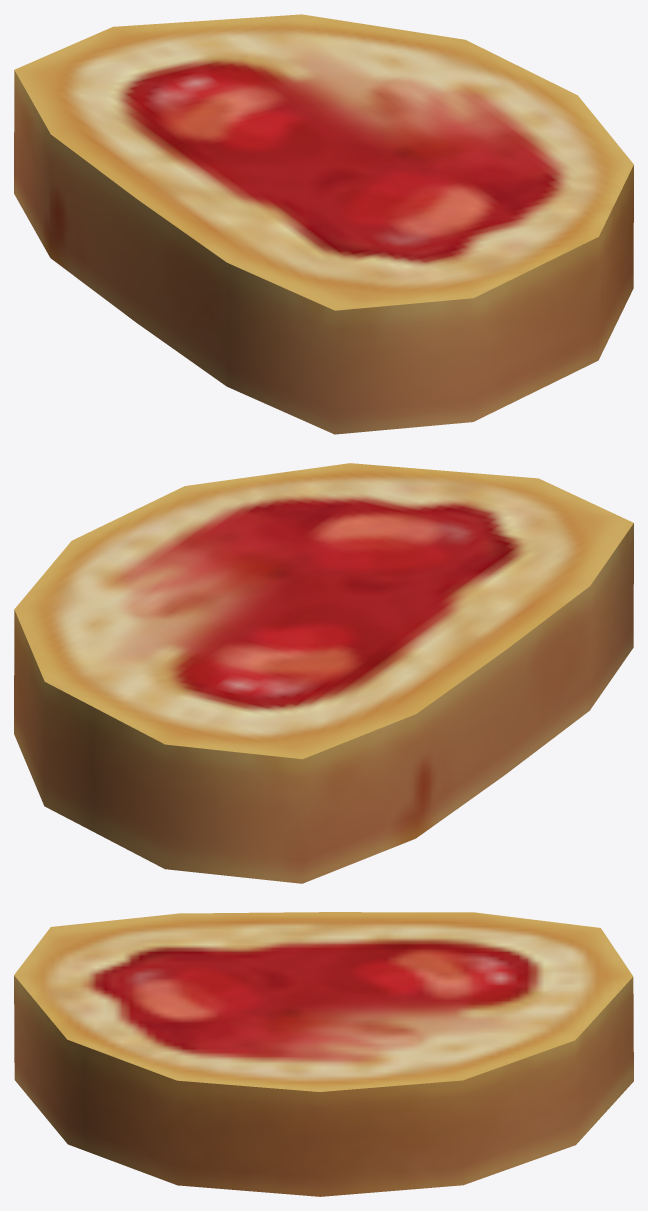
Rendered from SE_Baguette_04.fbx.
3 views of the same model, one above another, from view 1: azimuth 30°, elevation 25°; view 2: azimuth 150°, elevation 25°; view 3: azimuth 270°, elevation 25° (orthographic). The views are drawn at different scales.
Parts seen in each view (by area): view 1: SE_Baguette_04; view 2: SE_Baguette_04; view 3: SE_Baguette_04.
Boxes of the visible parts, box(x1,y1,x2,y2) form: SE_Baguette_04: box(14, 14, 633, 434); SE_Baguette_04: box(14, 463, 633, 883); SE_Baguette_04: box(14, 912, 633, 1196).
Size of the model in its own units: 0.6622 by 0.1859 by 0.9638.
